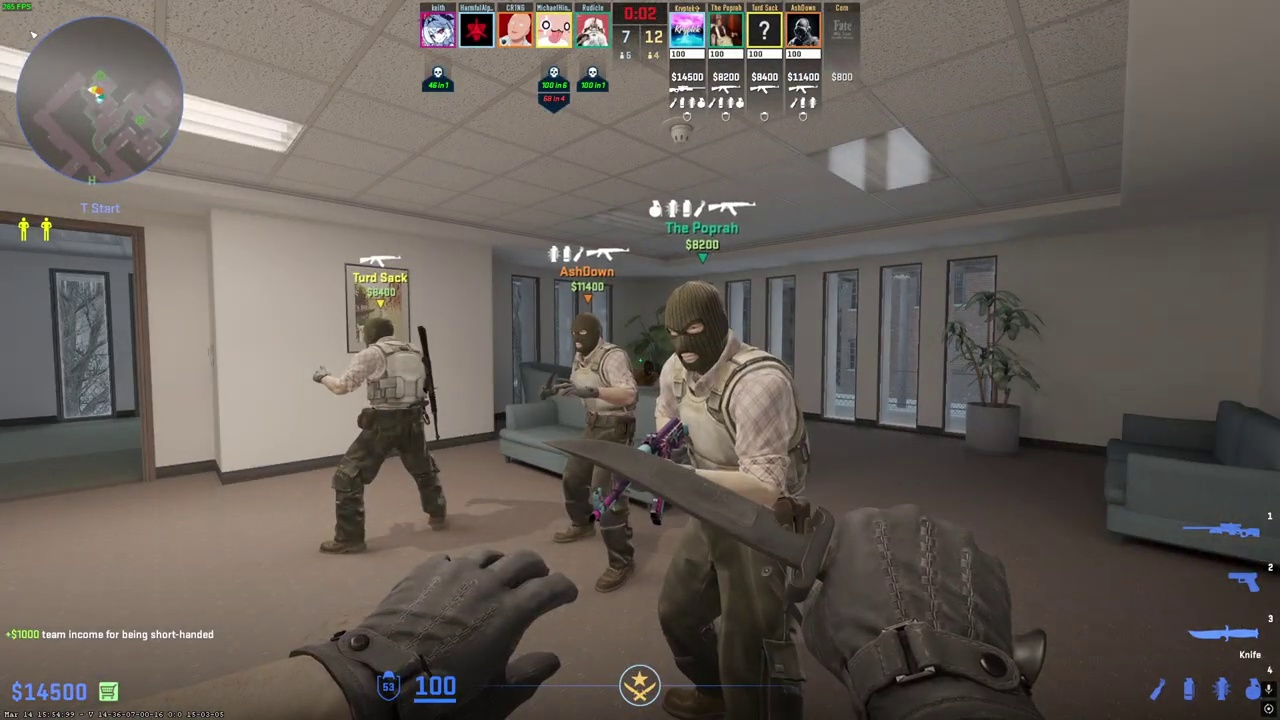Terrorist: (636, 281, 813, 720), (316, 317, 444, 556), (548, 313, 638, 590)
